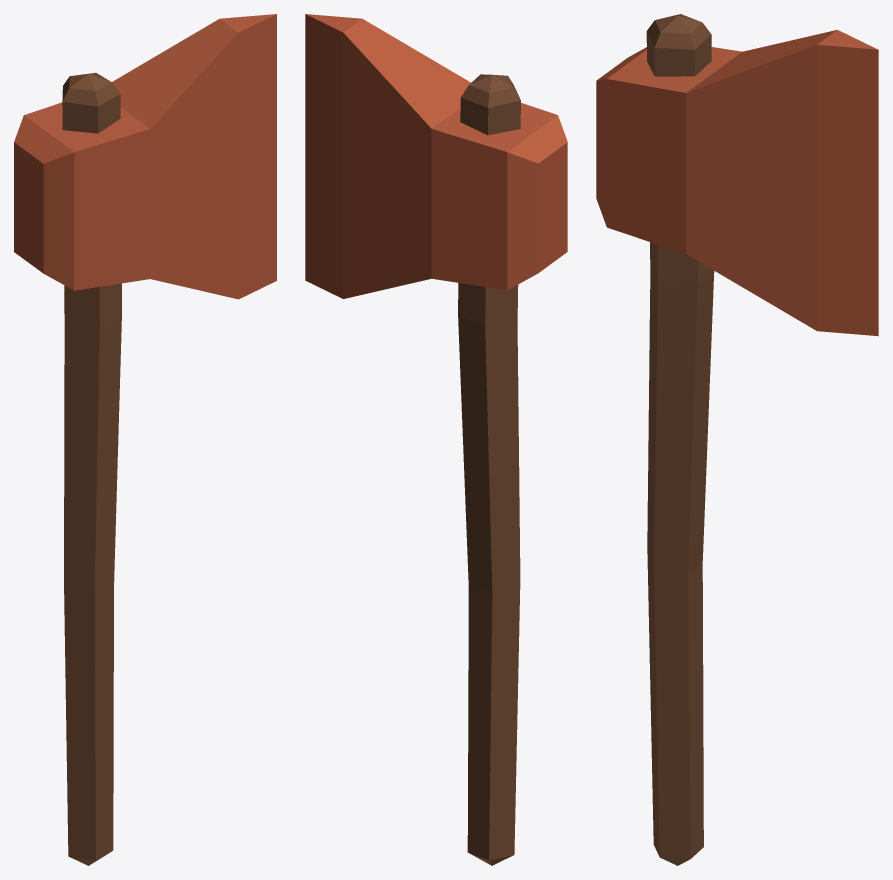
File: CopperAxe.fbx
3 renders of one model, left to right at view 1: azimuth 30°, elevation 25°; view 2: azimuth 150°, elevation 25°; view 3: azimuth 330°, elevation 25°, orthographic. The views are drawn at different scales.
Visible parts, largest first — view 1: Copper Axe.001; view 2: Copper Axe.001; view 3: Copper Axe.001.
Part boxes in pixels (x1,y1,x2,y2): Copper Axe.001: (14, 14, 276, 865); Copper Axe.001: (305, 14, 567, 865); Copper Axe.001: (596, 14, 878, 865).
Size of the model in its own units: 135 by 420 by 49.76.
